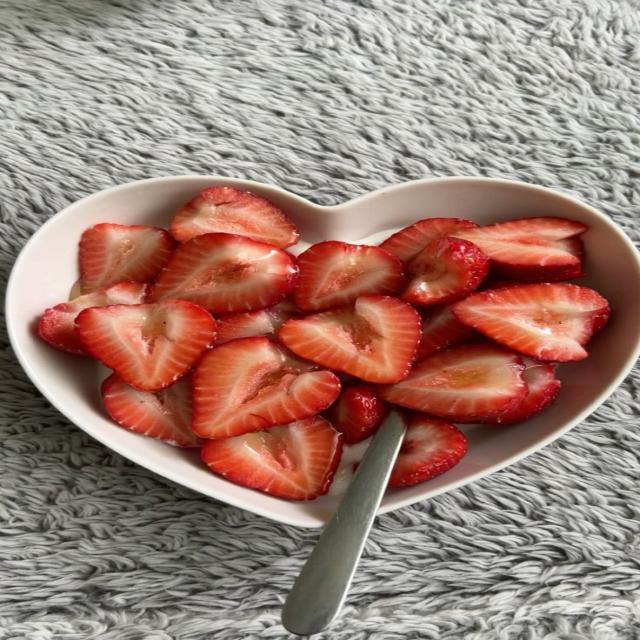strawberry sliced: (194, 338, 339, 438), (76, 300, 215, 390), (278, 296, 420, 383), (452, 284, 609, 362), (377, 343, 526, 423), (201, 416, 342, 500), (150, 233, 296, 314), (452, 217, 587, 282), (170, 186, 299, 248), (39, 282, 148, 354), (293, 241, 405, 311), (101, 374, 203, 447), (80, 224, 174, 293), (400, 237, 488, 305), (389, 413, 466, 486), (483, 357, 560, 424), (380, 218, 476, 261), (215, 300, 303, 344), (326, 386, 387, 444), (417, 305, 479, 359)
